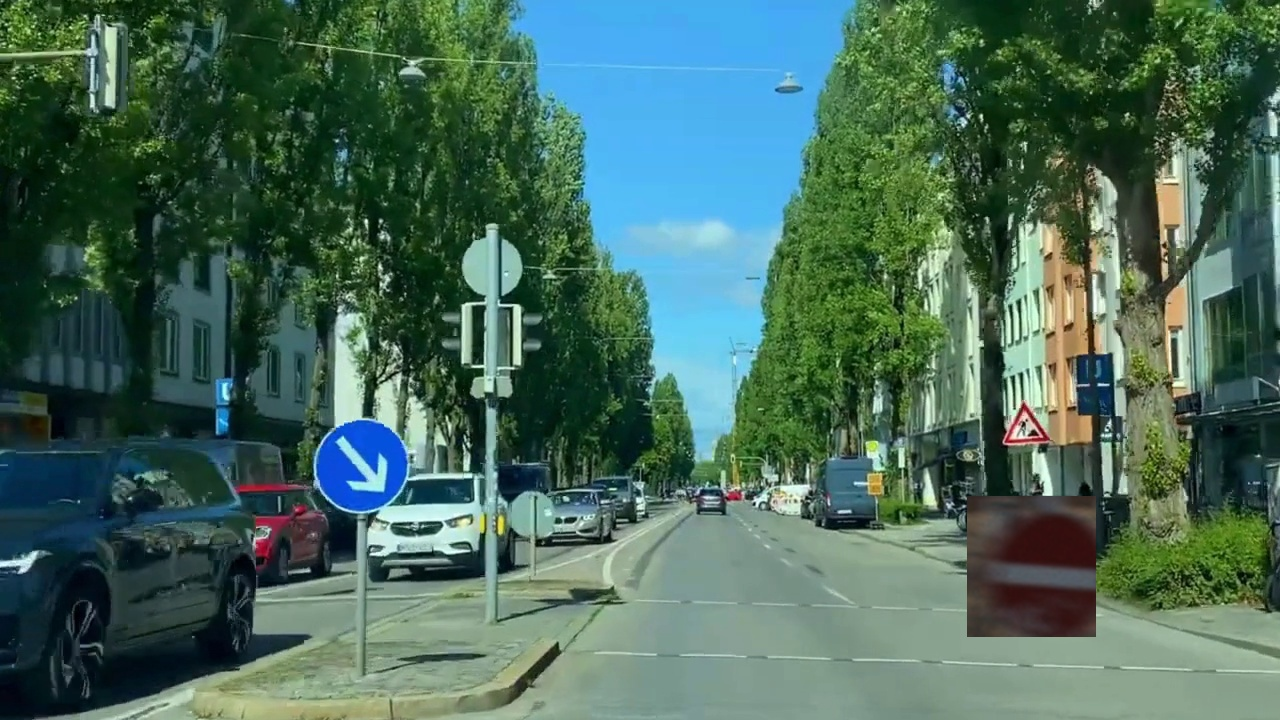No entry: (967, 496, 1096, 637)
